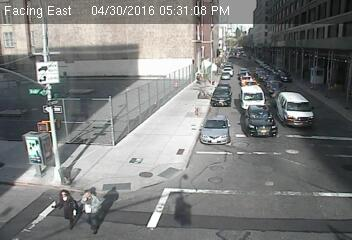neg: (137, 140, 162, 173), (209, 62, 231, 91), (133, 79, 153, 106), (265, 93, 282, 115), (220, 112, 232, 128)
pos: (69, 187, 106, 236), (52, 189, 79, 226)
